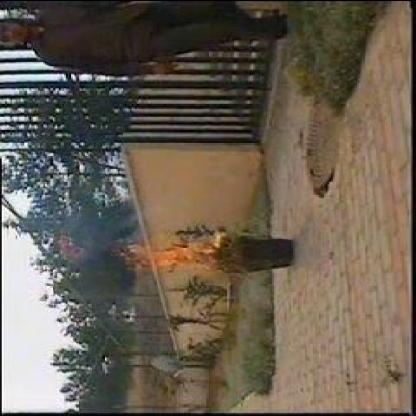-: (49, 210, 119, 238)
foggia-v2-map80-epoch100 - v1 4323: (126, 231, 232, 277)
